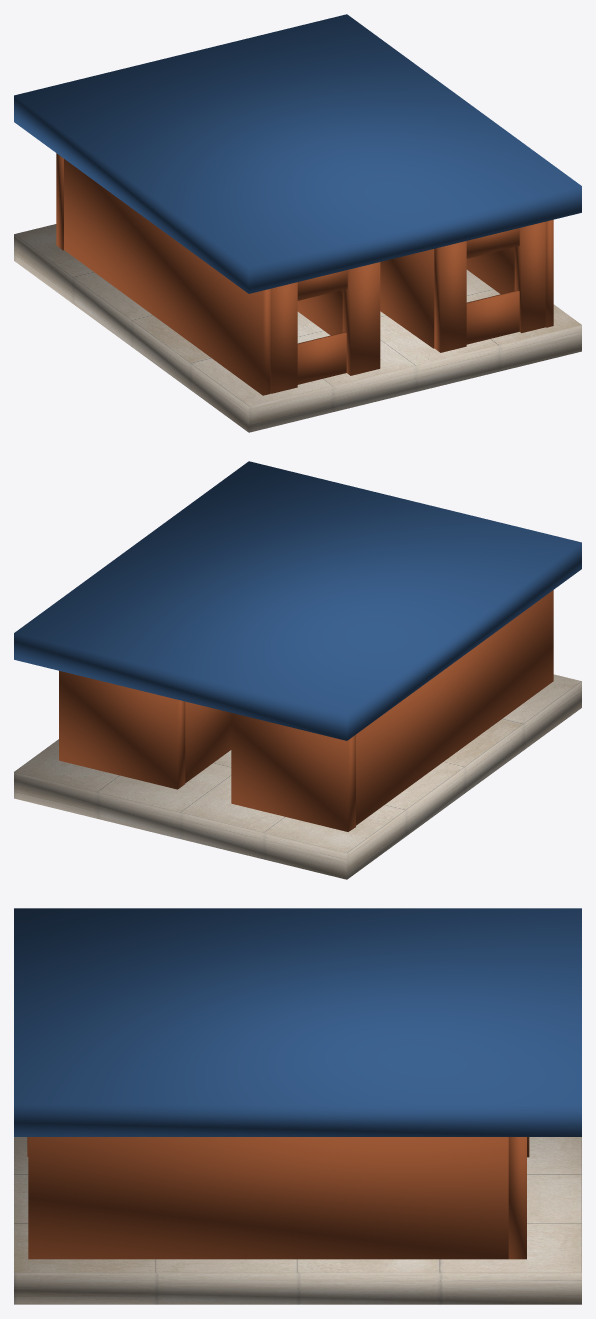
The model's file is casa2.obj.
The picture shows the model from 3 angles, top to bottom: view 1: azimuth 30°, elevation 25°; view 2: azimuth 150°, elevation 25°; view 3: azimuth 270°, elevation 25°; orthographic projection. The views are drawn at different scales.
Parts seen in each view (by area): view 1: Box001, Box002, Line006, Line023, Line008, Line010, Line012, Line007, Line003, Line024, Line009, Line022 (+3 smaller); view 2: Box001, Box002, Line006, Line002, Line001, Line021; view 3: Box001, Line003, Box002, Line002.
Part boxes in pixels (x1,y1,x2,y2): Box001: (14, 14, 581, 293); Box002: (14, 224, 581, 432); Line006: (64, 159, 270, 395); Line023: (380, 249, 434, 348); Line008: (342, 262, 380, 375); Line010: (434, 241, 466, 352); Line012: (514, 221, 545, 333); Line007: (270, 282, 297, 393); Line003: (466, 219, 553, 327); Line024: (466, 290, 519, 344); Line009: (297, 332, 346, 384); Line022: (297, 290, 342, 335); Box001: (14, 461, 581, 740); Box002: (14, 674, 581, 879); Line006: (356, 590, 553, 825); Line002: (59, 671, 185, 789); Line001: (231, 713, 355, 831); Line021: (185, 701, 231, 782); Box001: (14, 908, 581, 1136); Line003: (28, 1137, 508, 1259); Box002: (14, 1137, 581, 1304); Line002: (508, 1137, 526, 1259).
Size of the model in its own units: 90.17 by 42.78 by 110.
Materials: 3 (3 with a texture image).
